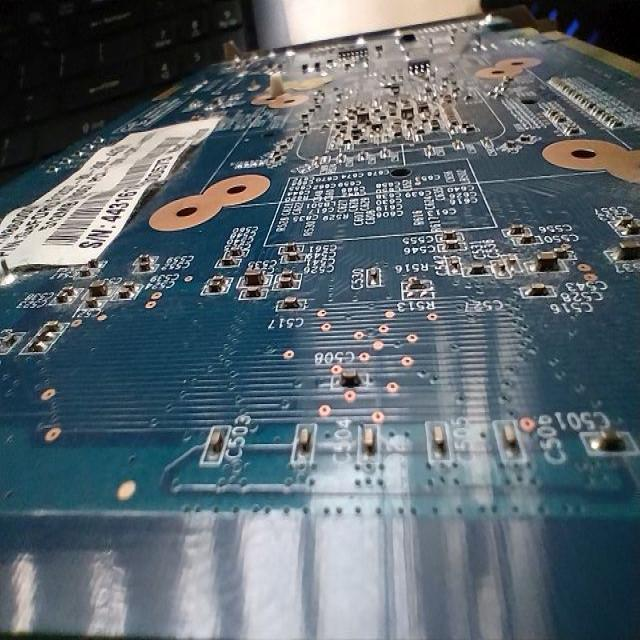capacitor: (494, 426, 543, 479), (338, 367, 389, 405), (290, 416, 320, 466), (430, 428, 460, 477), (355, 423, 384, 472), (206, 414, 230, 472), (598, 431, 640, 464), (613, 226, 640, 272), (279, 294, 320, 322), (529, 290, 566, 318), (535, 246, 566, 272), (82, 275, 109, 297), (466, 262, 492, 278), (142, 255, 162, 275), (22, 338, 41, 358), (524, 282, 551, 296), (120, 283, 134, 307), (205, 282, 228, 294), (439, 223, 458, 235), (289, 254, 302, 270)
